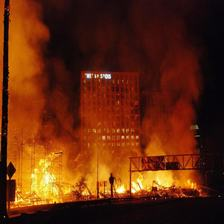fire: (17, 143, 82, 202), (120, 171, 206, 195)
